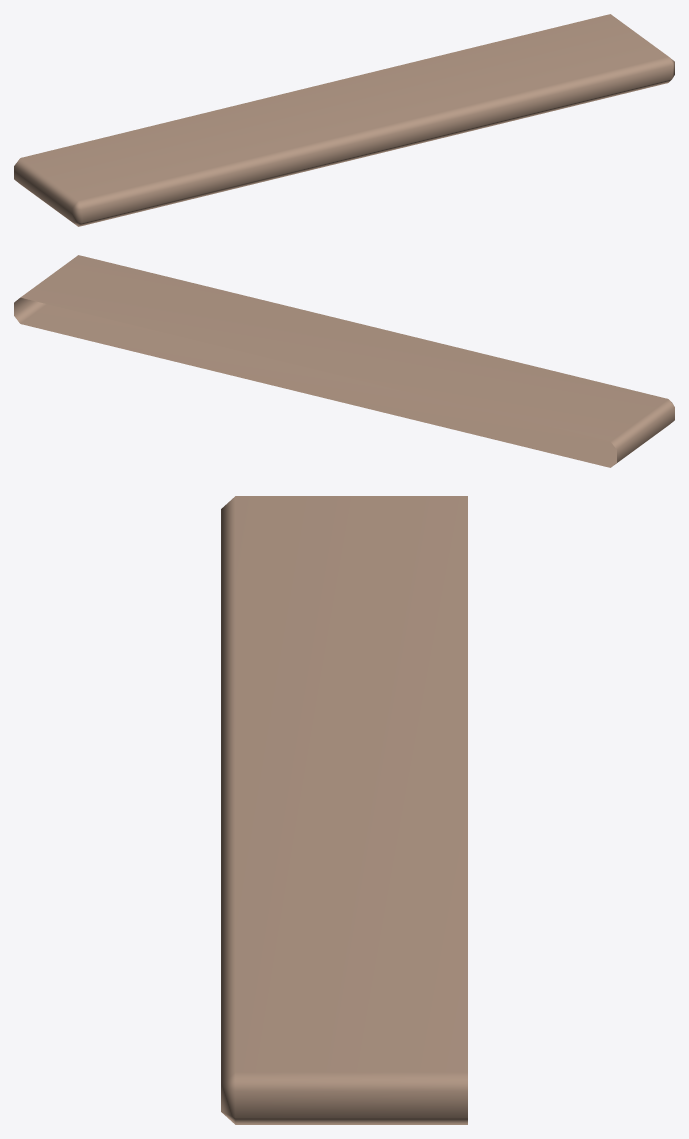
File: Shelf_5.glb
3 views of the same model, one above another, from view 1: azimuth 30°, elevation 25°; view 2: azimuth 150°, elevation 25°; view 3: azimuth 270°, elevation 25° (orthographic). The views are drawn at different scales.
Visible parts, largest first — view 1: Shelf_5; view 2: Shelf_5; view 3: Shelf_5.
Part boxes in pixels (box(x1,y1,x2,y2)): Shelf_5: box(14, 14, 674, 226); Shelf_5: box(14, 255, 674, 467); Shelf_5: box(221, 496, 467, 1124).
Bounding box in the file's own units: 3.18 × 0.133 × 0.5647.
1 material, 1 textured.
